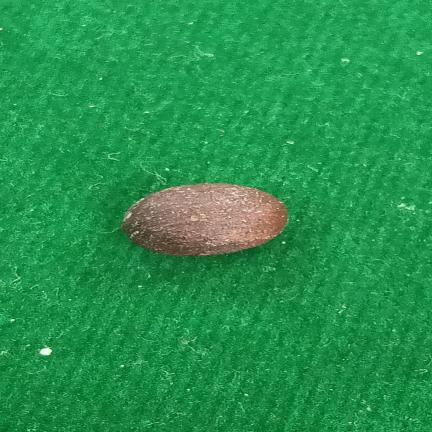husk: (121, 183, 288, 256)
